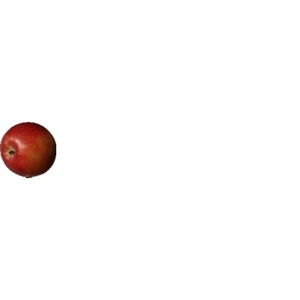maçã braeburn: (1, 120, 59, 175)
